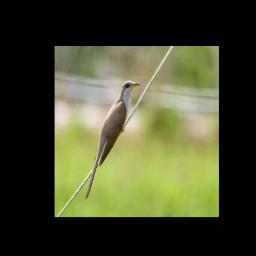Cuckoo: (83, 80, 141, 203)
